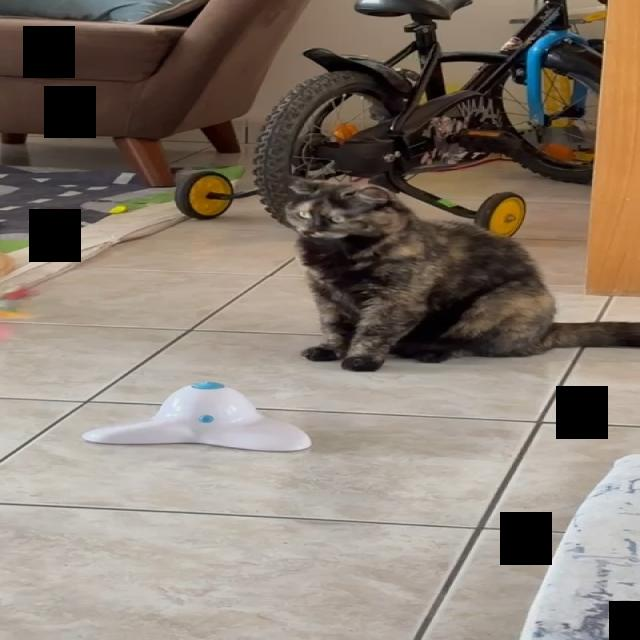authorized: (278, 175, 638, 372)
